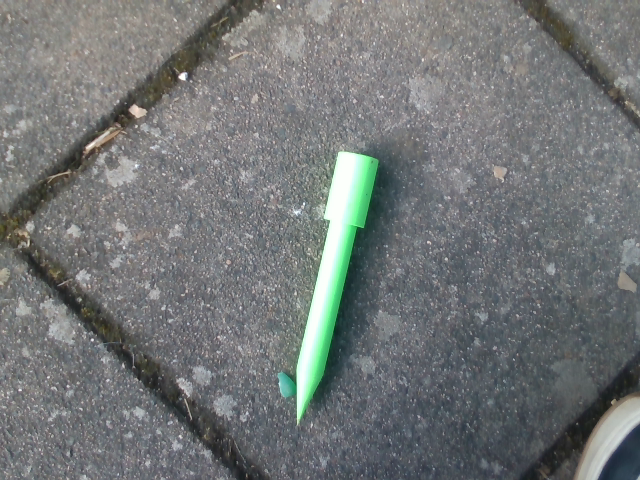Probe: (291, 144, 385, 432)
